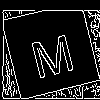M: (25, 25, 77, 79)
